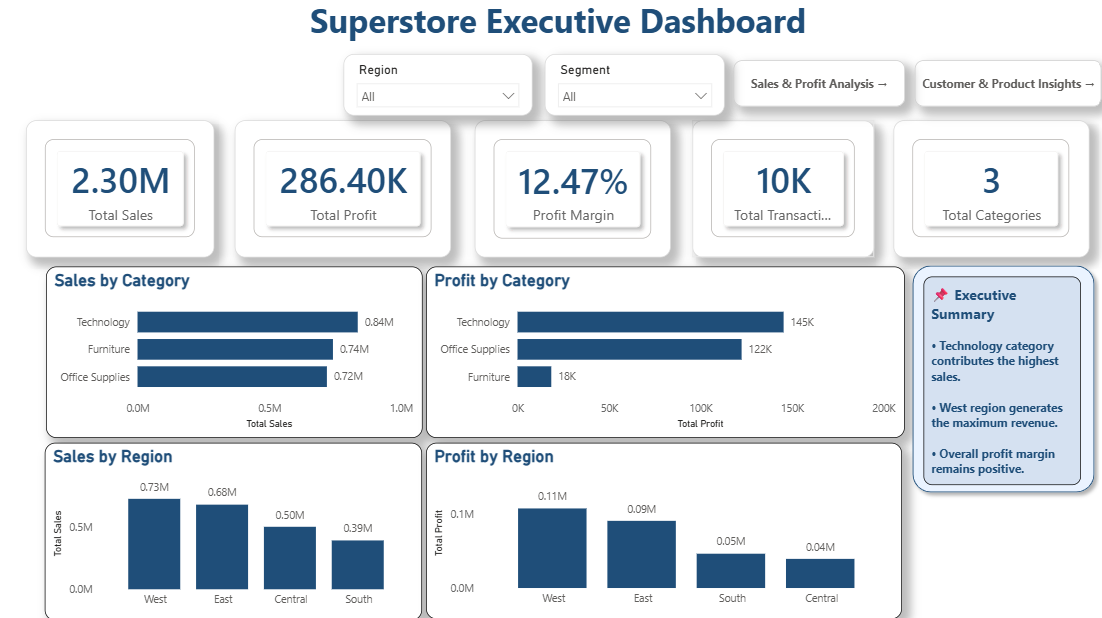

What the dashboard file says about the page in this screenshot:
{"tool":"powerbi","page":{"name":"Executive  Dashboard","canvas":[1280,720],"ordinal":0},"visuals":[{"type":"cardVisual","fields":{"Data":["Mearsure.Total Profit"]},"box":[272.9,144.4,247.2,156.7],"z":0},{"type":"textbox","box":[16.5,0,1250.1,68.6],"z":1000},{"type":"cardVisual","fields":{"Data":["Mearsure.Total Transactions"]},"box":[795.6,144.4,208.1,156.7],"z":2000},{"type":"cardVisual","fields":{"Data":["Mearsure.Total Sales"]},"box":[34.3,144.4,215.4,156.7],"z":3000},{"type":"cardVisual","fields":{"Data":["Mearsure.Profit Margin"]},"box":[547.1,144.3,224.3,157.1],"z":4000},{"type":"cardVisual","fields":{"Data":["Mearsure.Total Categories"]},"box":[1025.7,144.4,224,156.7],"z":5000},{"type":"clusteredBarChart","title":"Sales by Category","fields":{"Category":["superstore_sales csv.Category"],"Y":["Mearsure.Total Sales"]},"box":[57.1,311.4,430,195.7],"z":6000},{"type":"clusteredBarChart","title":" Profit by Category","fields":{"Category":["superstore_sales csv.Category"],"Y":["Mearsure.Total Profit"]},"box":[491.4,311.4,547.1,195.7],"z":7000},{"type":"clusteredColumnChart","title":" Sales by Region","fields":{"Category":["superstore_sales csv.Region"],"Y":["Mearsure.Total Sales"]},"box":[55.7,512.9,431.4,202.9],"z":8000},{"type":"clusteredColumnChart","title":" Profit by Region","fields":{"Category":["superstore_sales csv.Region"],"Y":["Mearsure.Total Profit"]},"box":[491.4,512.9,544.3,201.4],"z":9000},{"type":"slicer","fields":{"Values":["superstore_sales csv.Region"]},"box":[397.1,68.6,215.7,70],"z":10000},{"type":"slicer","fields":{"Values":["superstore_sales csv.Segment"]},"box":[627.1,68.6,205.7,70],"z":11000},{"type":"actionButton","box":[842.9,75.7,195.7,52.9],"z":12000},{"type":"actionButton","box":[1050,75.7,214.3,52.9],"z":13000},{"type":"shape","box":[1038.6,301.4,225.7,277.1],"z":14000},{"type":"textbox","box":[1060,322.9,180,238.6],"z":15000}]}

Visuals, with their boxes in screenshot pixels (x1, y1, x2, y2), scaled from the page's 1280x720 canvas onto the 1102x618 screenshot:
cardVisual - Mearsure.Total Profit: crop(235, 124, 448, 258)
textbox: crop(14, 0, 1090, 59)
cardVisual - Mearsure.Total Transactions: crop(685, 124, 864, 258)
cardVisual - Mearsure.Total Sales: crop(30, 124, 215, 258)
cardVisual - Mearsure.Profit Margin: crop(471, 124, 664, 259)
cardVisual - Mearsure.Total Categories: crop(883, 124, 1076, 258)
"Sales by Category" clusteredBarChart: crop(49, 267, 419, 435)
" Profit by Category" clusteredBarChart: crop(423, 267, 894, 435)
" Sales by Region" clusteredColumnChart: crop(48, 440, 419, 614)
" Profit by Region" clusteredColumnChart: crop(423, 440, 892, 613)
slicer - superstore_sales csv.Region: crop(342, 59, 528, 119)
slicer - superstore_sales csv.Segment: crop(540, 59, 717, 119)
actionButton: crop(726, 65, 894, 110)
actionButton: crop(904, 65, 1088, 110)
shape: crop(894, 259, 1088, 497)
textbox: crop(913, 277, 1068, 482)
